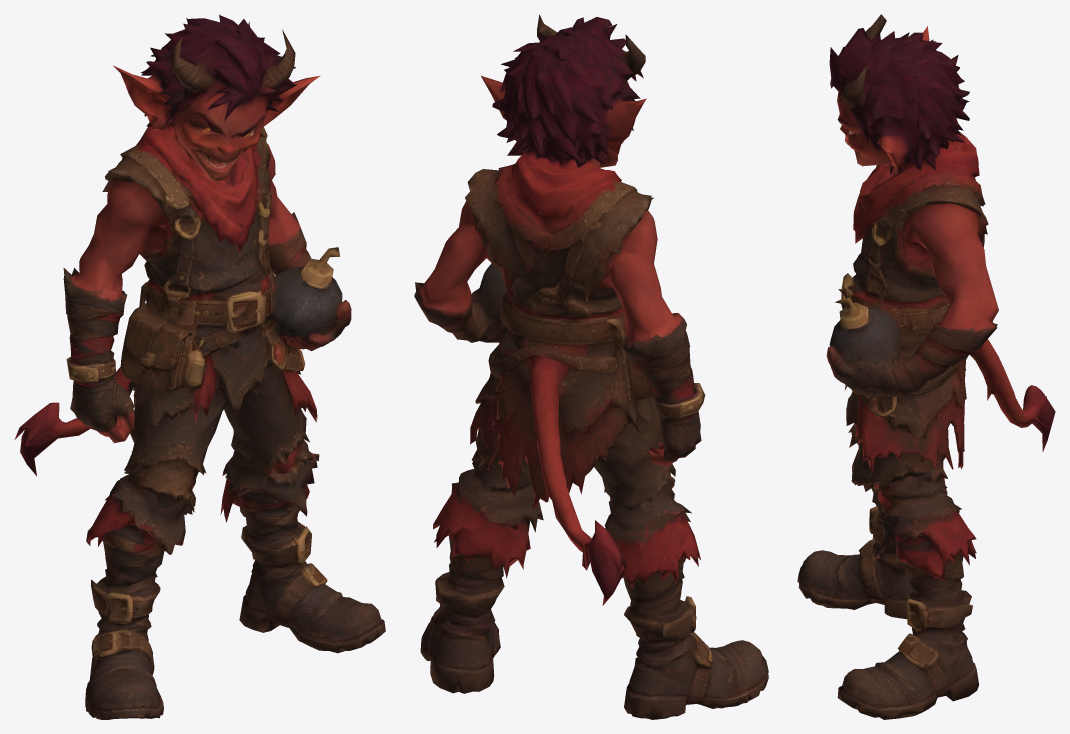
The model's file is original.glb.
The picture shows the model from 3 angles, left to right: view 1: azimuth 30°, elevation 25°; view 2: azimuth 150°, elevation 25°; view 3: azimuth 270°, elevation 25°; orthographic projection. The views are drawn at different scales.
Parts seen in each view (by area): view 1: tripo_node_ef805276-e7ff-4e8e-980f-0933fdcb40f0; view 2: tripo_node_ef805276-e7ff-4e8e-980f-0933fdcb40f0; view 3: tripo_node_ef805276-e7ff-4e8e-980f-0933fdcb40f0.
Boxes of the visible parts, box(x1,y1,x2,y2) form: tripo_node_ef805276-e7ff-4e8e-980f-0933fdcb40f0: box(14, 14, 385, 719); tripo_node_ef805276-e7ff-4e8e-980f-0933fdcb40f0: box(414, 14, 768, 719); tripo_node_ef805276-e7ff-4e8e-980f-0933fdcb40f0: box(797, 14, 1055, 719).
Size of the model in its own units: 0.4966 by 0.9939 by 0.3772.
1 material, 1 textured.
